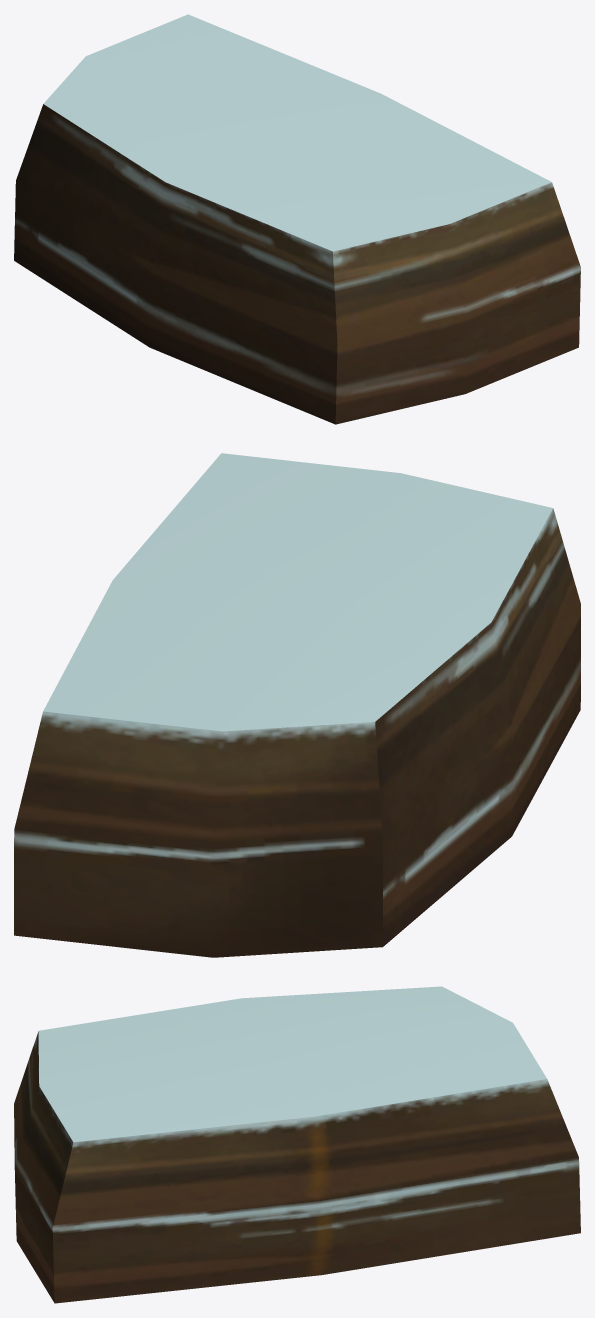
File: Arctic_MiniRock.fbx
The picture shows the model from 3 angles, top to bottom: view 1: azimuth 30°, elevation 25°; view 2: azimuth 150°, elevation 25°; view 3: azimuth 270°, elevation 25°; orthographic projection. The views are drawn at different scales.
Parts seen in each view (by area): view 1: Arctic_MiniRock; view 2: Arctic_MiniRock; view 3: Arctic_MiniRock.
Part boxes in pixels (x1,y1,x2,y2): Arctic_MiniRock: [14, 14, 580, 424]; Arctic_MiniRock: [14, 453, 580, 957]; Arctic_MiniRock: [14, 986, 580, 1303].
Size of the model in its own units: 1.75 by 0.8404 by 2.61.
